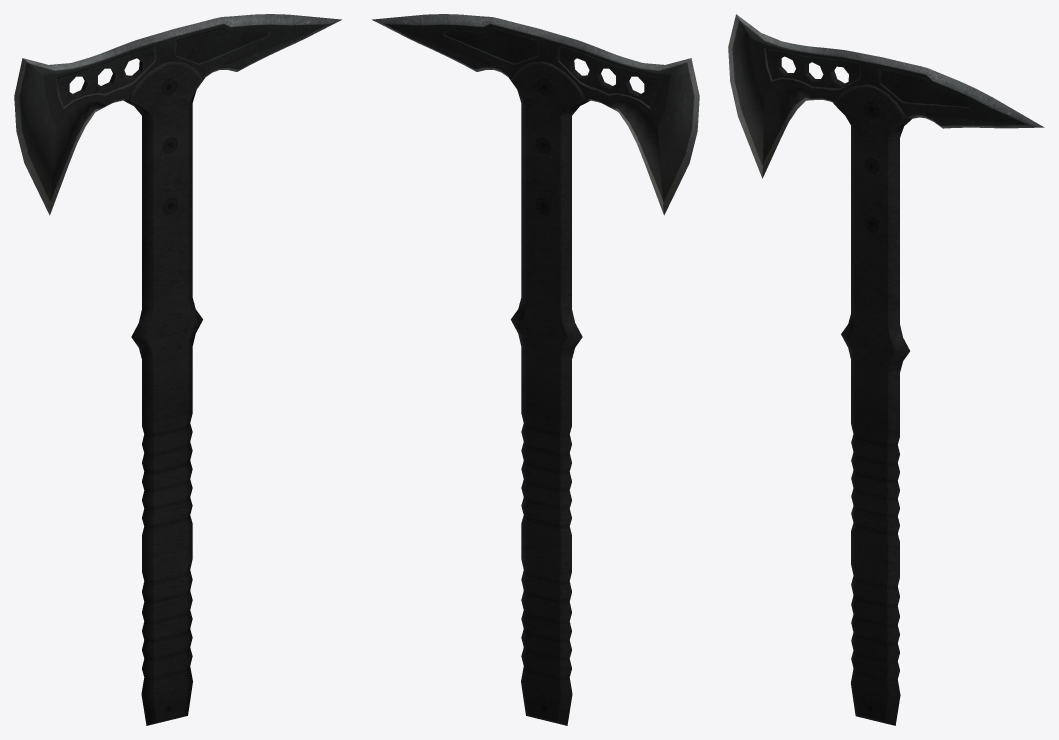
Rendered from tacticalaxe_mint.fbx.
The picture shows the model from 3 angles, left to right: view 1: azimuth 30°, elevation 25°; view 2: azimuth 150°, elevation 25°; view 3: azimuth 330°, elevation 25°; orthographic projection. The views are drawn at different scales.
Parts seen in each view (by area): view 1: tactical_axe_mint; view 2: tactical_axe_mint; view 3: tactical_axe_mint.
Part boxes in pixels (x1,y1,x2,y2): tactical_axe_mint: (14, 14, 341, 725); tactical_axe_mint: (372, 14, 699, 725); tactical_axe_mint: (728, 14, 1044, 725).
Bounding box in the file's own units: 8.41 × 17.07 × 0.3253.
Materials: 1 (1 with a texture image).
